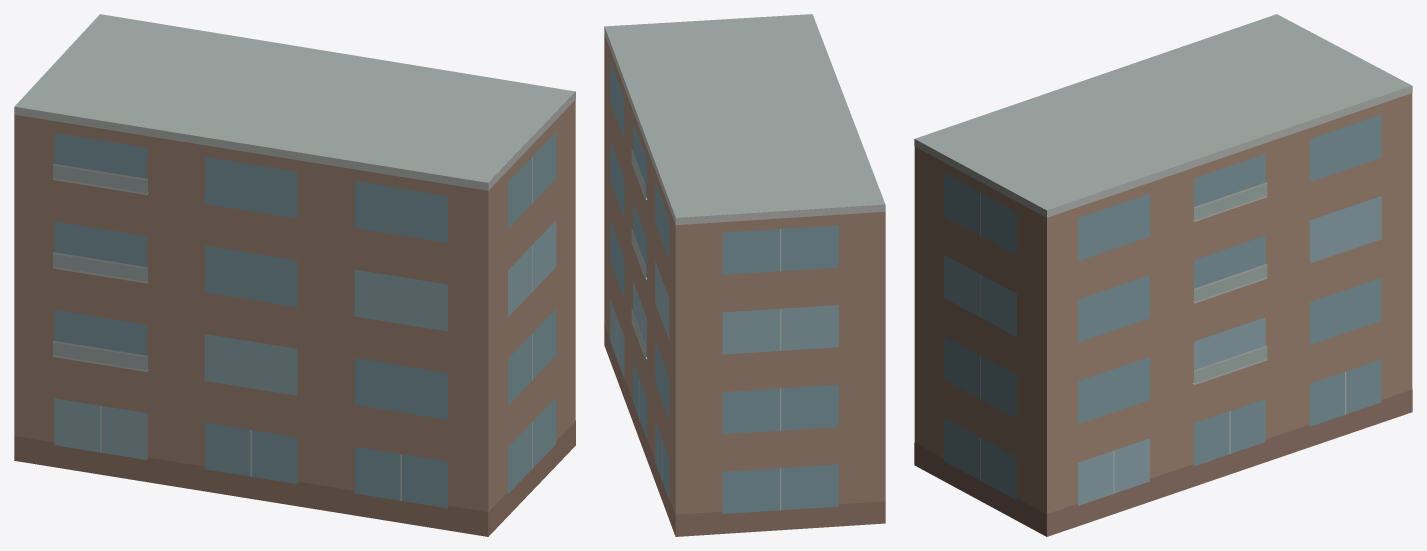
Rendered from survey-upis-32489383.glb.
The picture shows the model from 3 angles, left to right: view 1: azimuth 30°, elevation 25°; view 2: azimuth 150°, elevation 25°; view 3: azimuth 270°, elevation 25°; orthographic projection. The views are drawn at different scales.
Visible parts, largest first — view 1: survey-upis-32489383.tmp; view 2: survey-upis-32489383.tmp; view 3: survey-upis-32489383.tmp.
Part boxes in pixels (<box>): survey-upis-32489383.tmp: <box>14,14,575,536</box>; survey-upis-32489383.tmp: <box>604,14,885,536</box>; survey-upis-32489383.tmp: <box>914,14,1412,536</box>.
Size of the model in its own units: 14.08 by 10.9 by 15.08.
